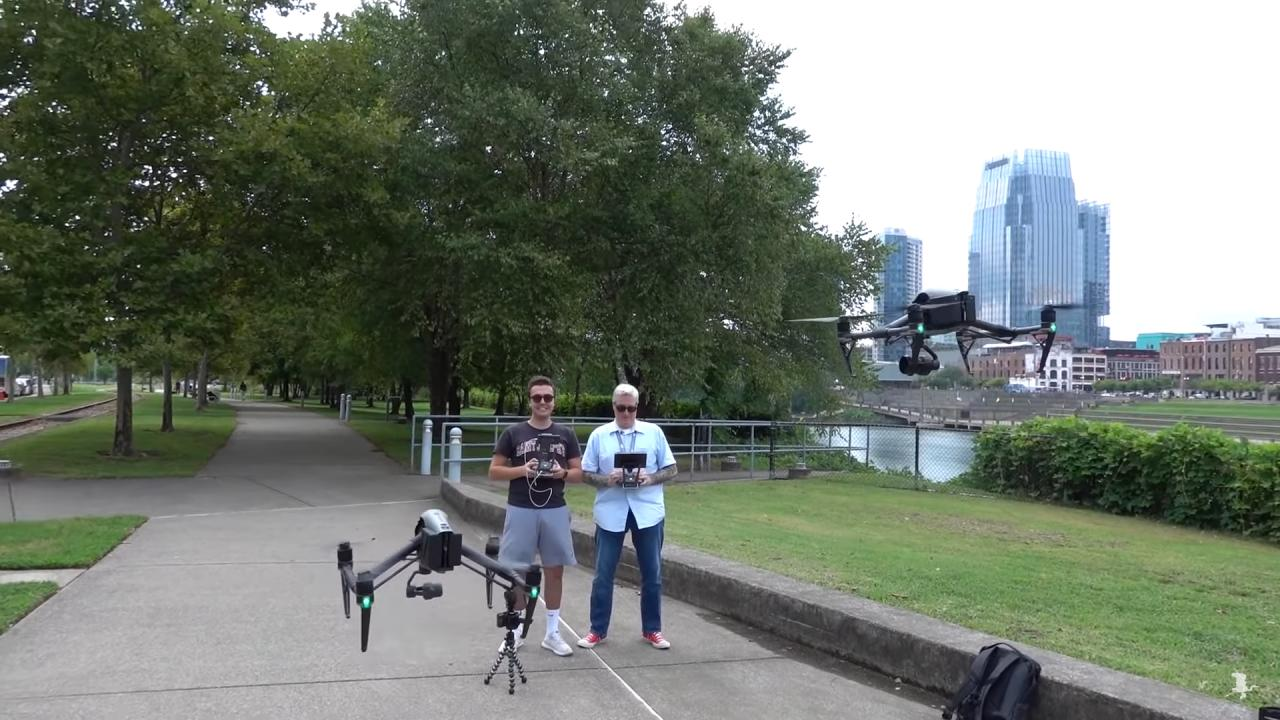Drone: (772, 271, 1116, 397), (304, 498, 567, 662)
